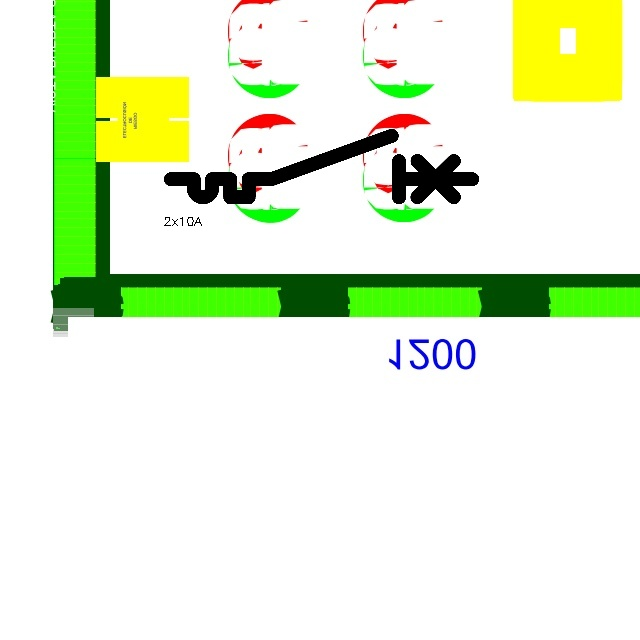interruptor_termomagnetico: (163, 128, 480, 205)
